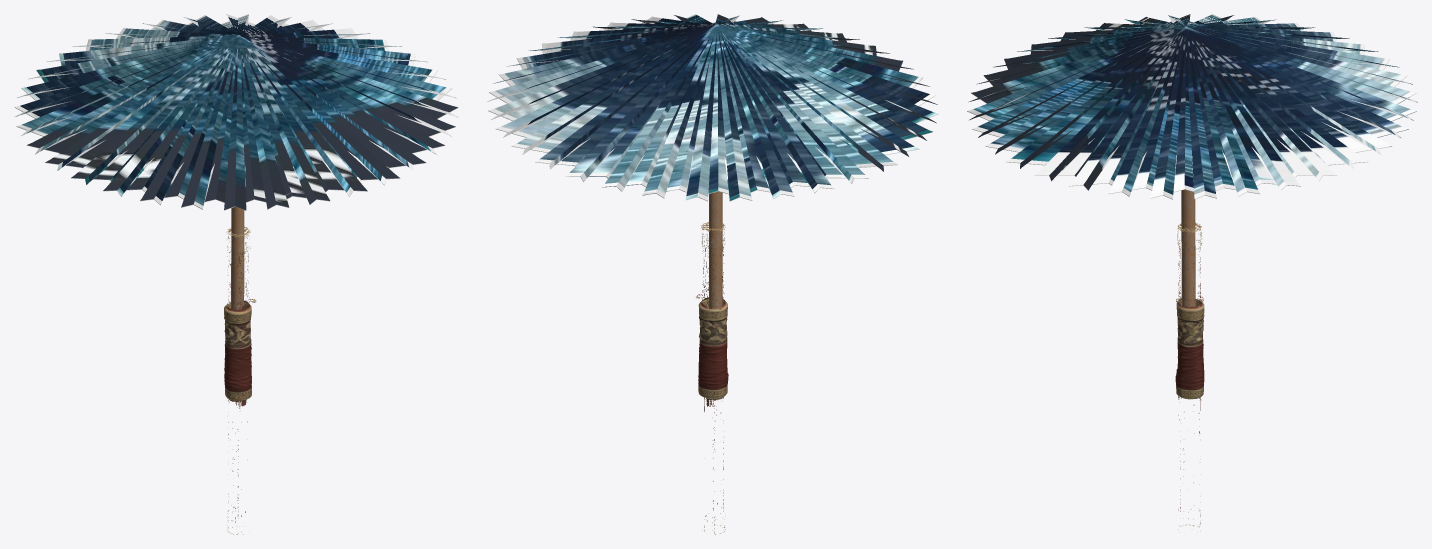
The model's file is old_the_wagasa__japanese_umbrella-transformed.glb.
3 renders of one model, left to right at view 1: azimuth 30°, elevation 25°; view 2: azimuth 150°, elevation 25°; view 3: azimuth 270°, elevation 25°, orthographic.
Visible parts, largest first — view 1: Object_4, Object_8, Object_6; view 2: Object_4, Object_8, Object_6; view 3: Object_4, Object_8, Object_6.
Part boxes in pixels (x1,y1,x2,y2): Object_4: (14,14,458,210); Object_8: (224,226,256,534); Object_6: (231,207,244,309); Object_4: (487,14,938,201); Object_8: (696,222,728,534); Object_6: (709,191,722,308); Object_4: (967,14,1417,199); Object_8: (1175,222,1204,532); Object_6: (1181,189,1195,307).
Size of the model in its own units: 2.69 by 3.32 by 2.69.
Materials: 3 (3 with a texture image).
